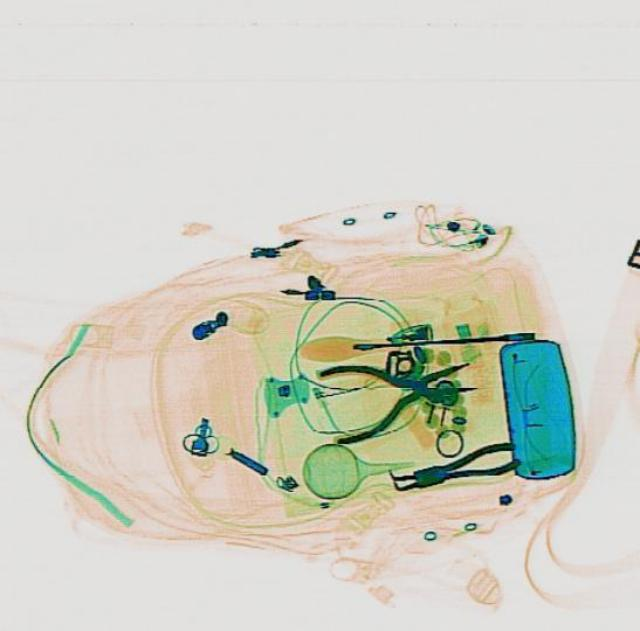Pliers: (315, 340, 481, 444), (384, 436, 522, 496)
